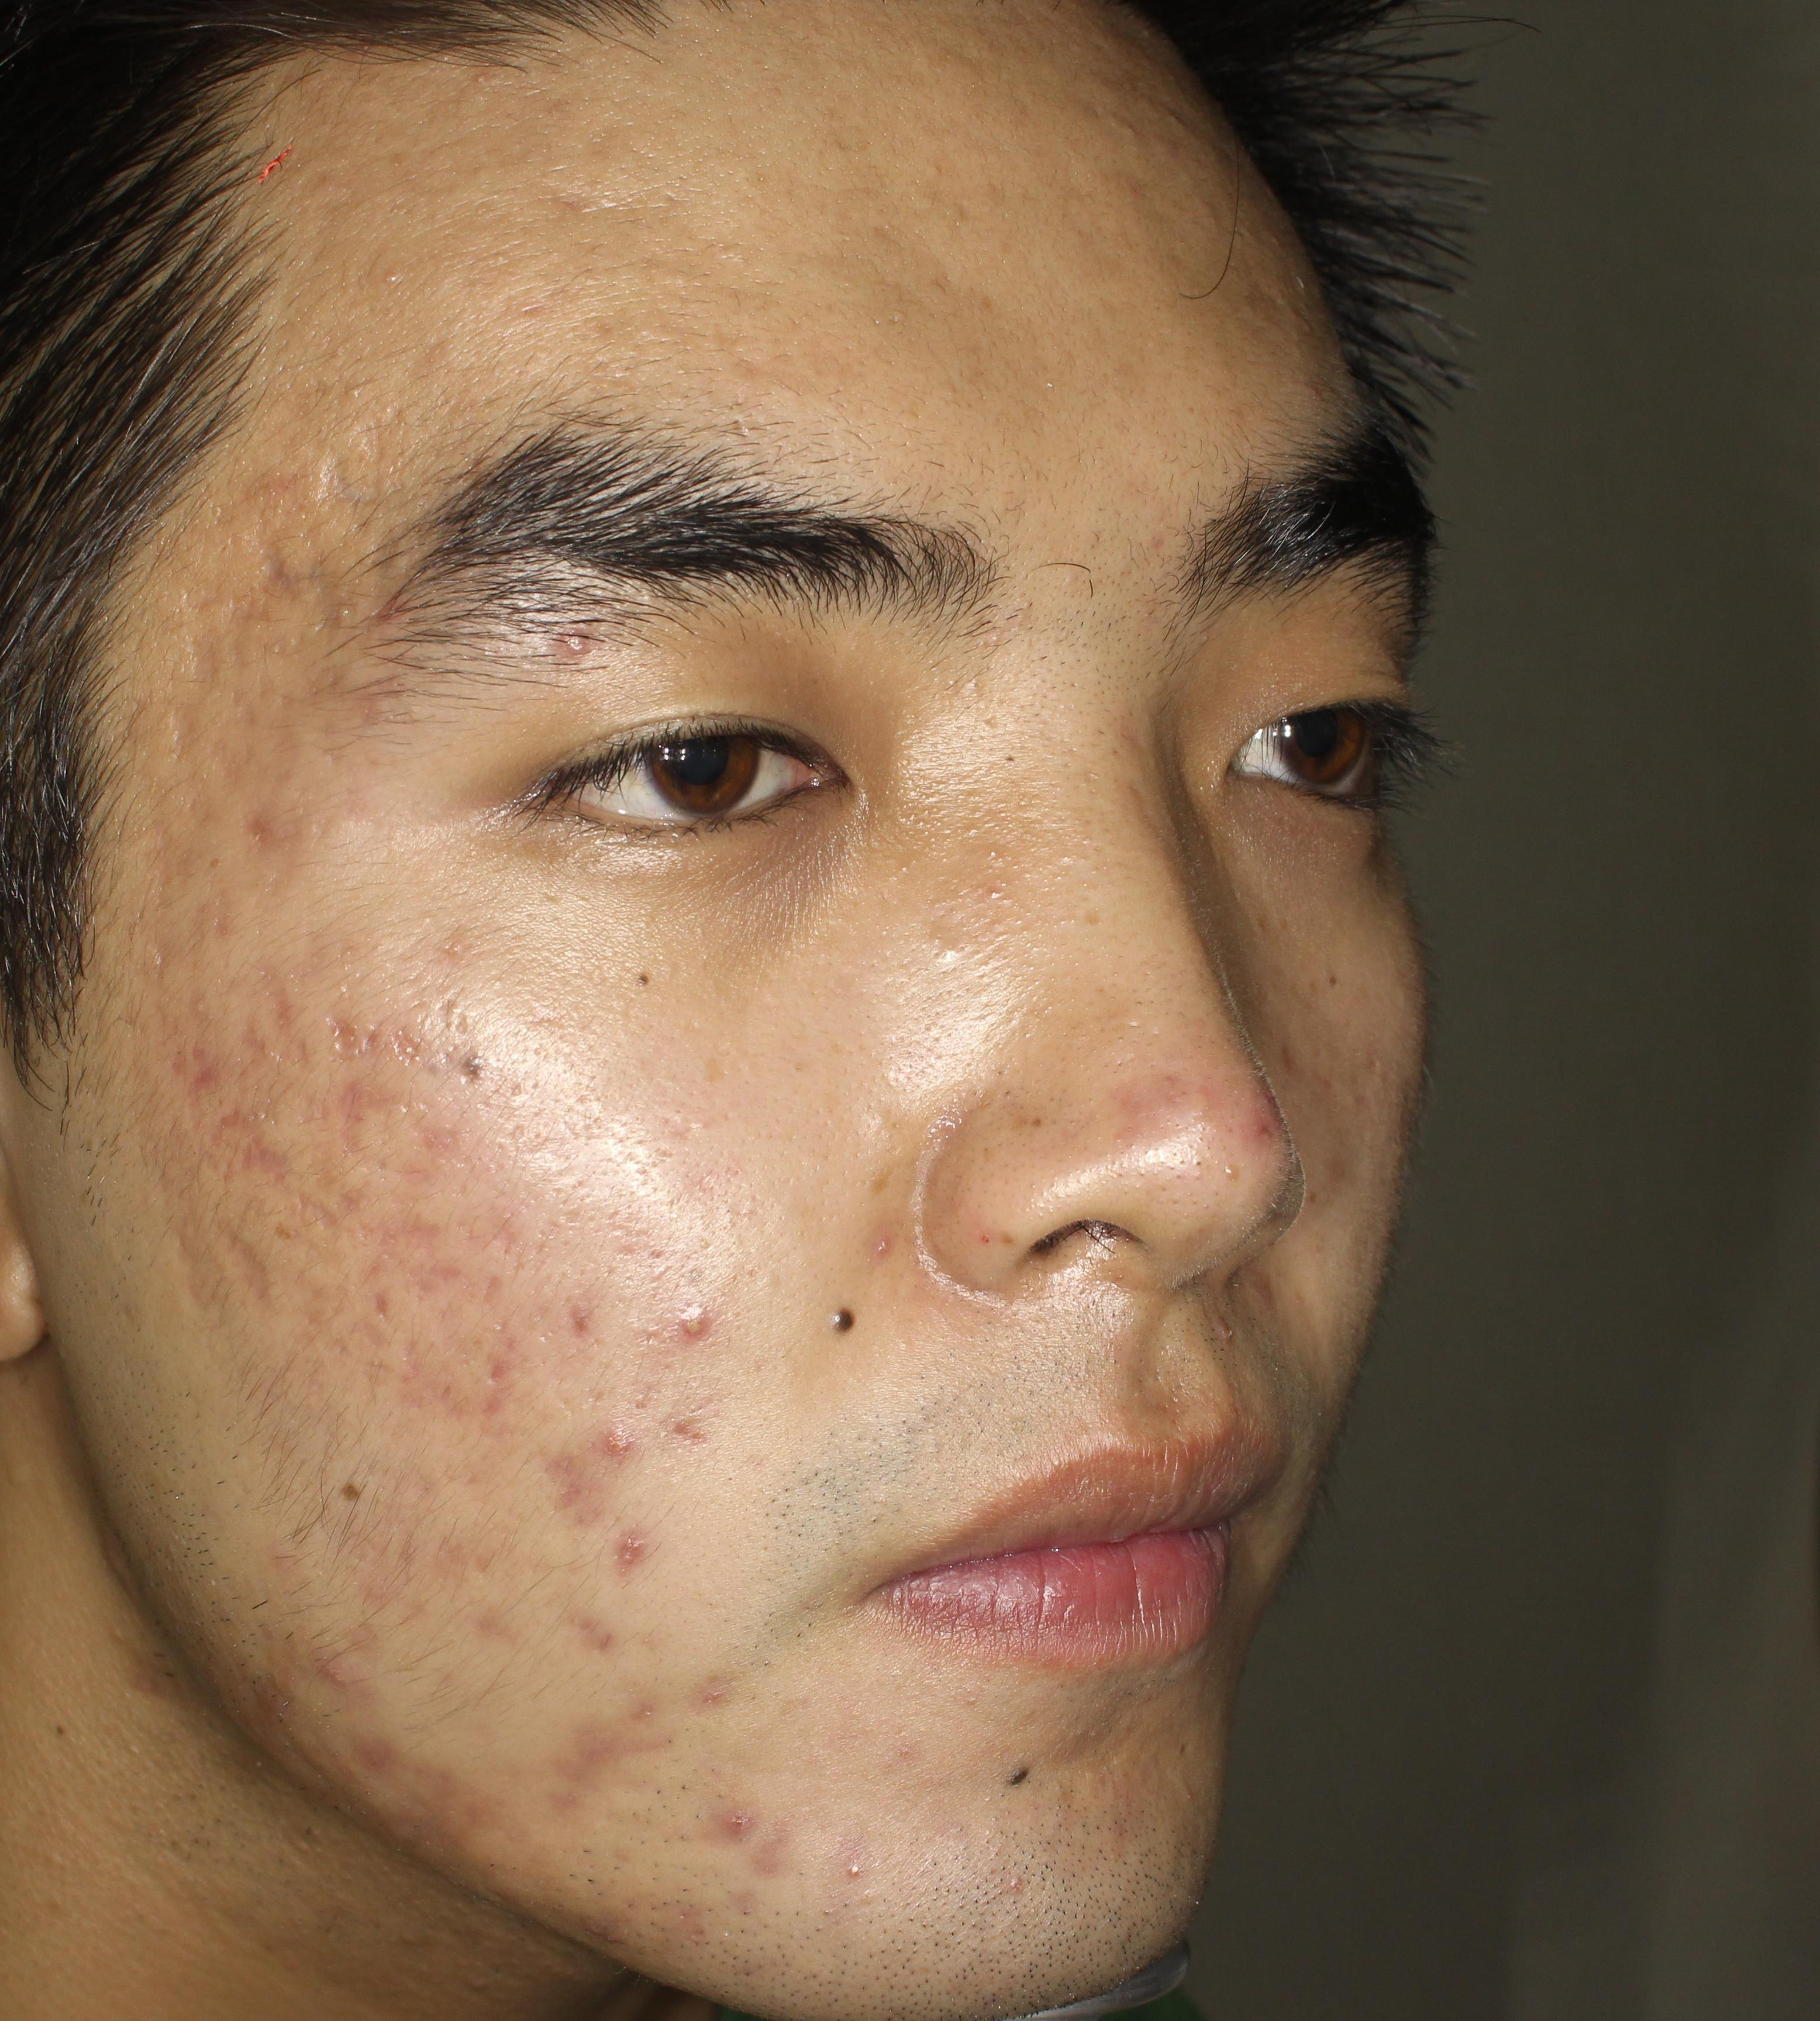fore: (274, 971, 436, 1115), (341, 1061, 471, 1199), (418, 1306, 548, 1433), (355, 1182, 471, 1306), (548, 1687, 661, 1805), (256, 1643, 401, 1728), (632, 1266, 736, 1375), (167, 997, 256, 1115), (710, 1782, 791, 1895), (589, 1491, 664, 1608), (204, 1104, 297, 1199), (580, 1410, 673, 1496), (571, 1598, 652, 1687), (546, 1292, 627, 1361), (227, 808, 314, 869), (678, 1652, 740, 1737), (539, 1450, 603, 1531), (541, 606, 608, 672), (650, 1399, 710, 1466), (441, 1285, 485, 1326), (661, 1589, 669, 1598)
